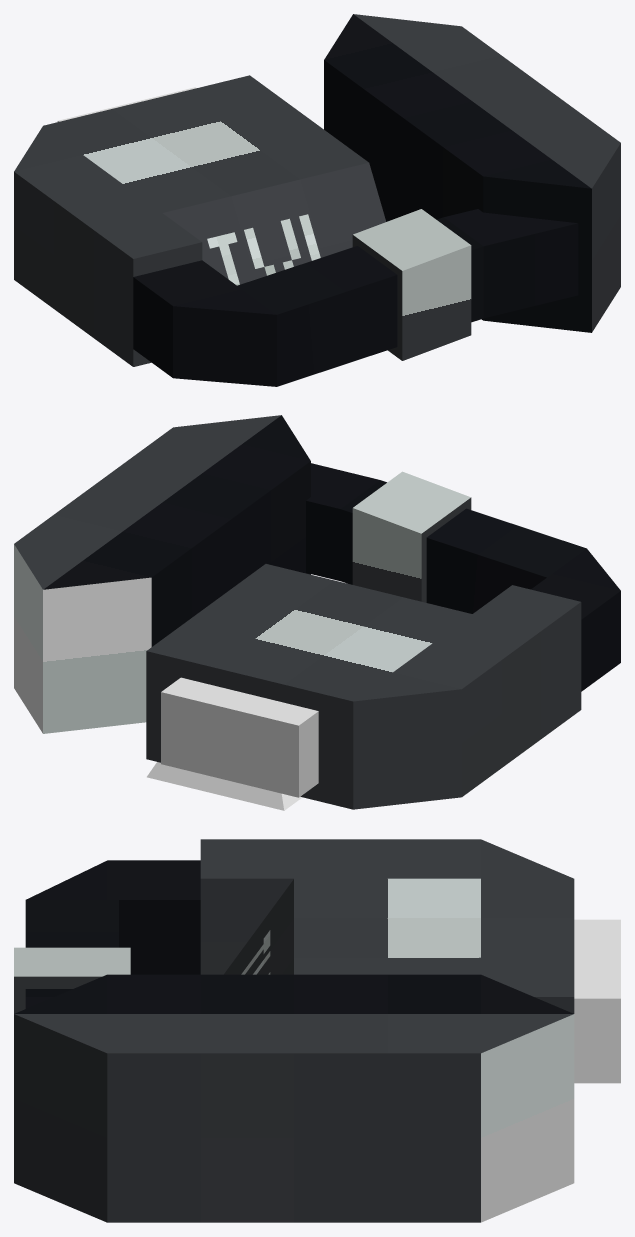
File: intake_fi_modern.obj
3 views of the same model, one above another, from view 1: azimuth 30°, elevation 25°; view 2: azimuth 150°, elevation 25°; view 3: azimuth 270°, elevation 25° (orthographic). The views are drawn at different scales.
Visible parts, largest first — view 1: cuboid, filter_cover; view 2: cuboid, filter_cover; view 3: filter_cover, cuboid.
Part boxes in pixels (<box>): cuboid: <box>14,14,591,386</box>; filter_cover: <box>353,14,620,332</box>; cuboid: <box>43,415,620,810</box>; filter_cover: <box>14,415,281,733</box>; filter_cover: <box>14,1014,574,1222</box>; cuboid: <box>14,839,620,1083</box>.
Bounding box in the file's own units: 0.4062 × 0.1406 × 0.4062.
